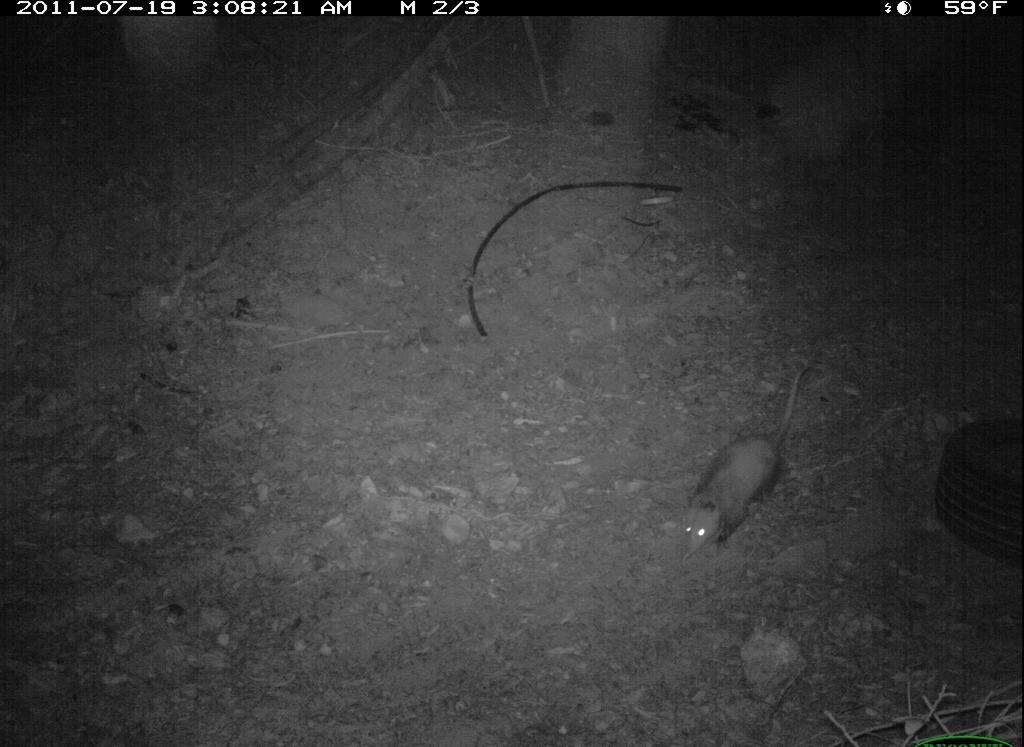opossum: (665, 355, 821, 566)
